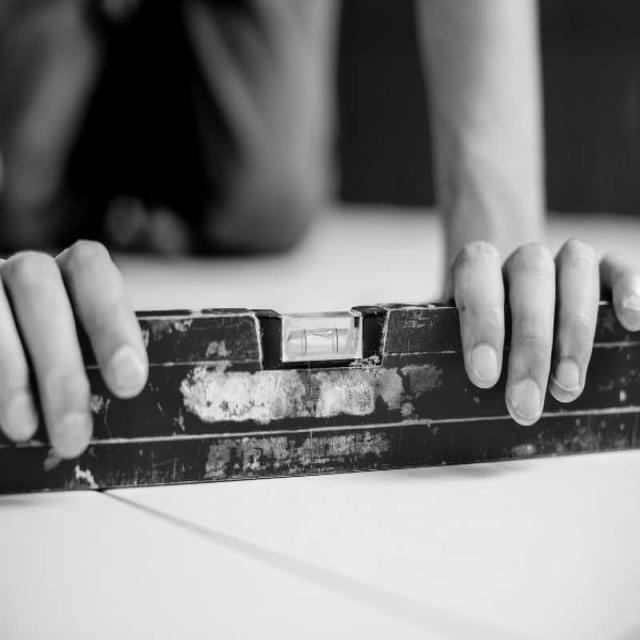level: (0, 251, 640, 537)
